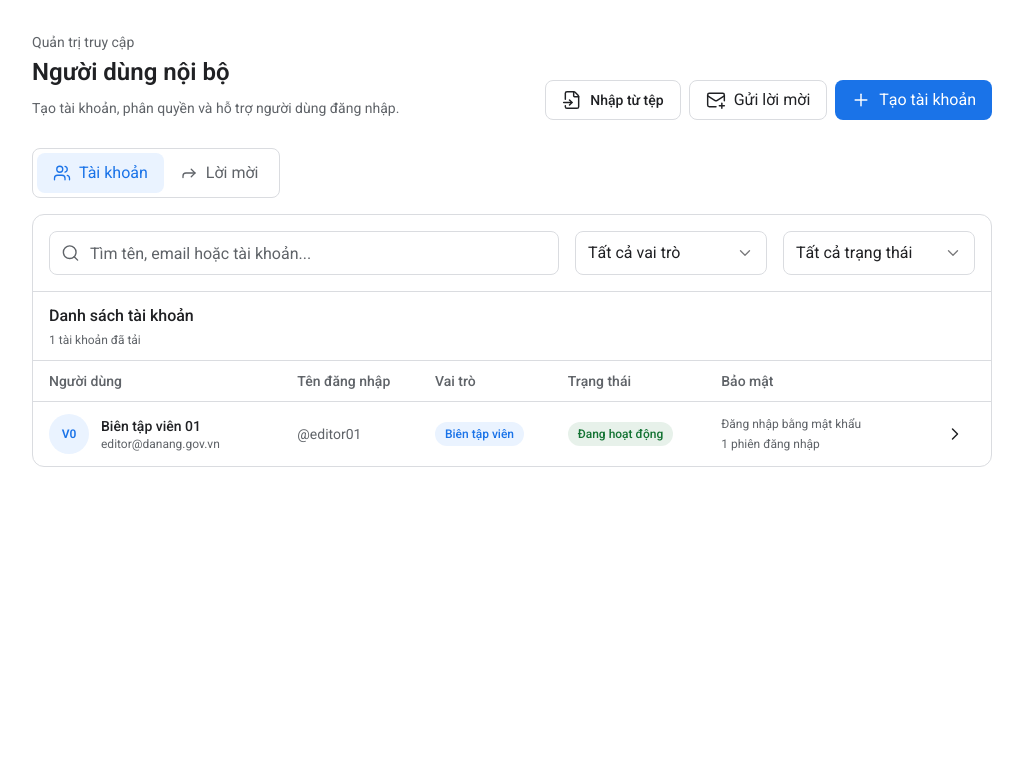
Test: System Admin users screen › uses the effective two-step policy and hides implementation details
Check: the text "Đăng nhập bằng mật khẩu" is shown, box left=721, top=416, right=861, bottom=430
Click the button named "Xem chi tiết Biên tập viên 01" at (955, 434), box left=935, top=414, right=975, bottom=454
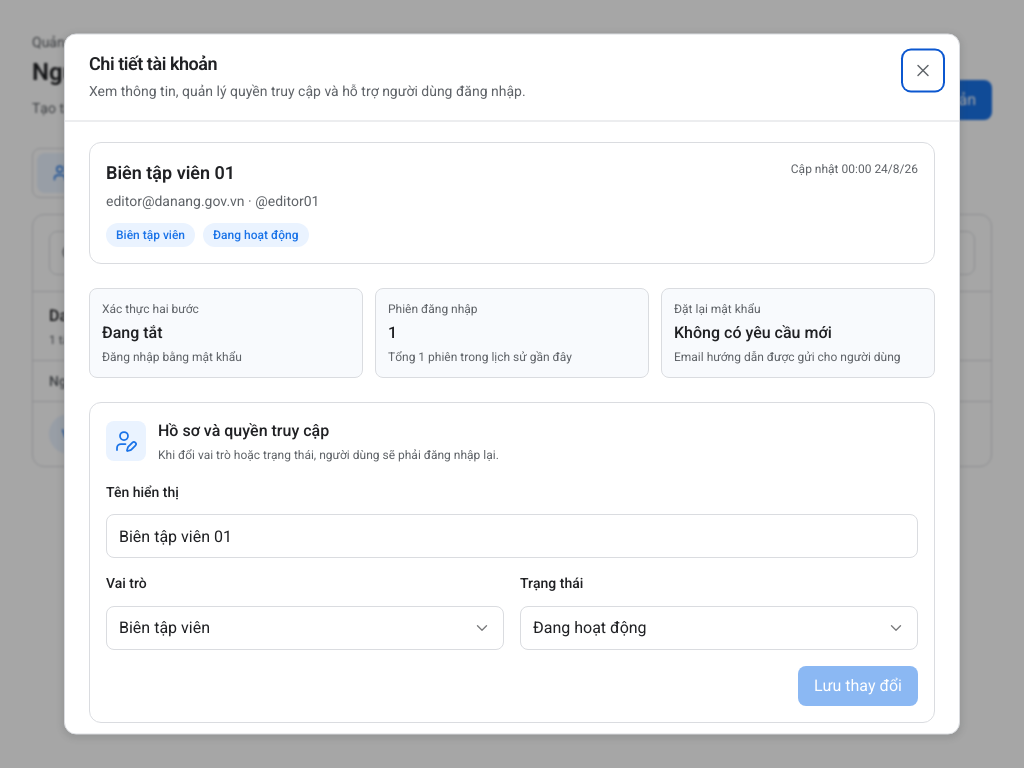
Check: the text "Đang tắt" is shown, box left=102, top=322, right=162, bottom=342
